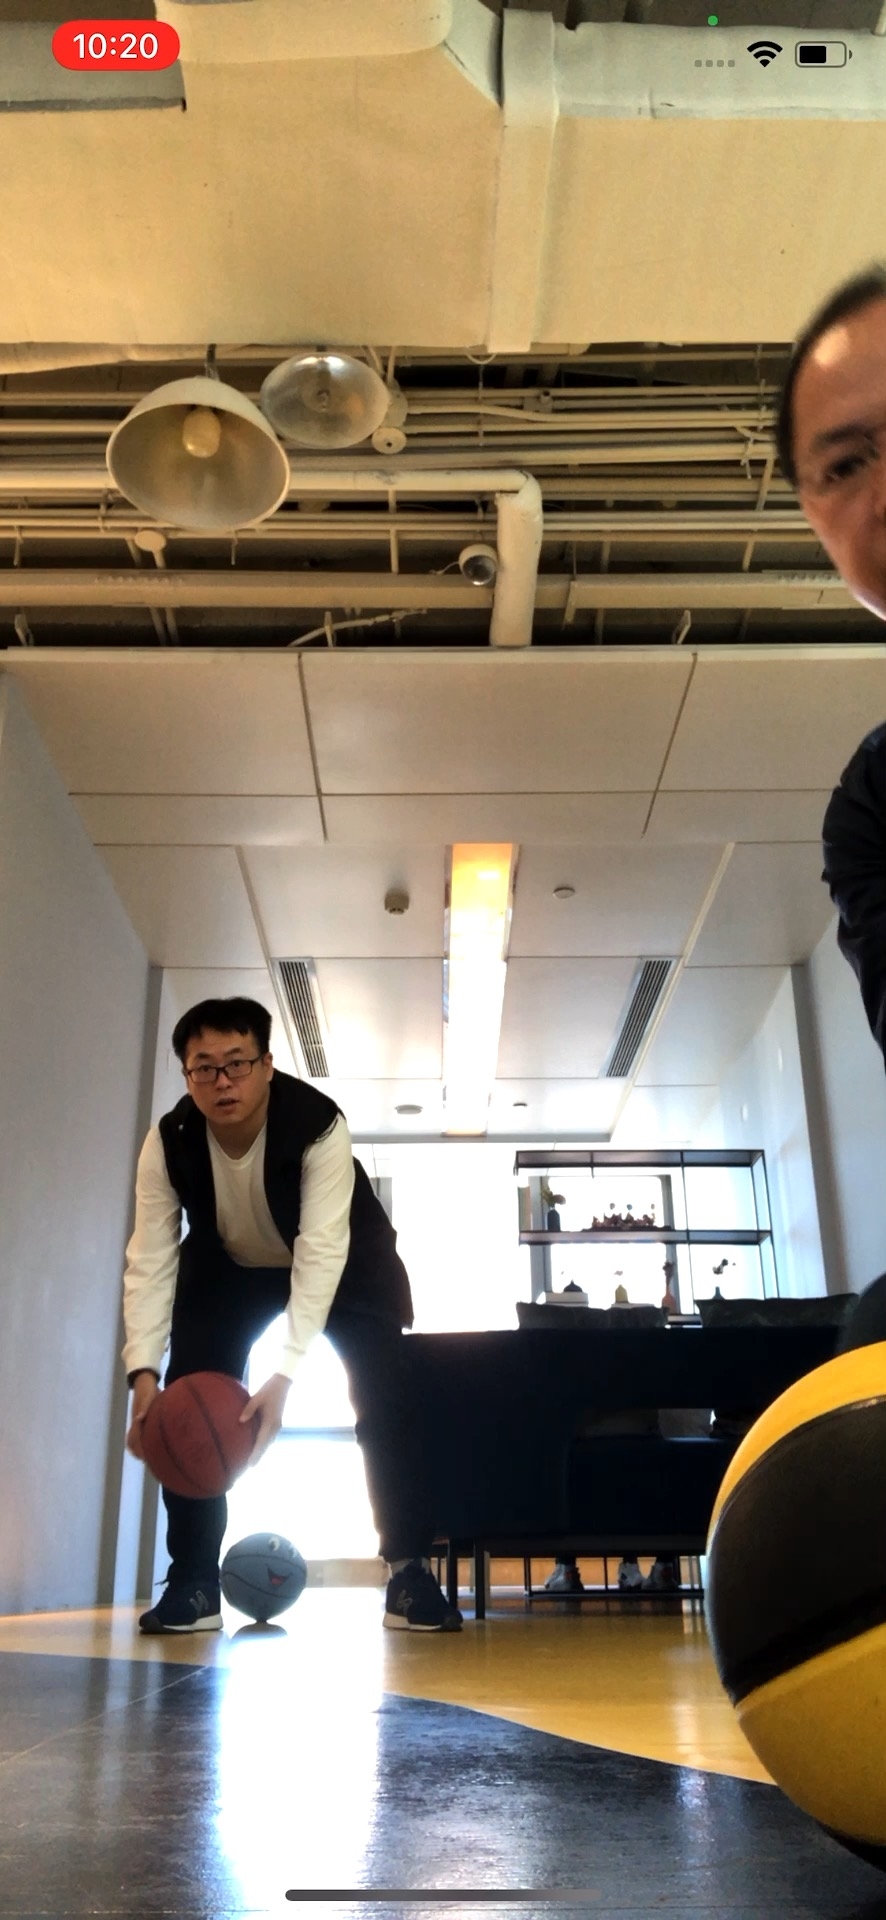ball: (709, 1343, 886, 1862), (147, 1374, 266, 1498), (223, 1531, 306, 1621)
